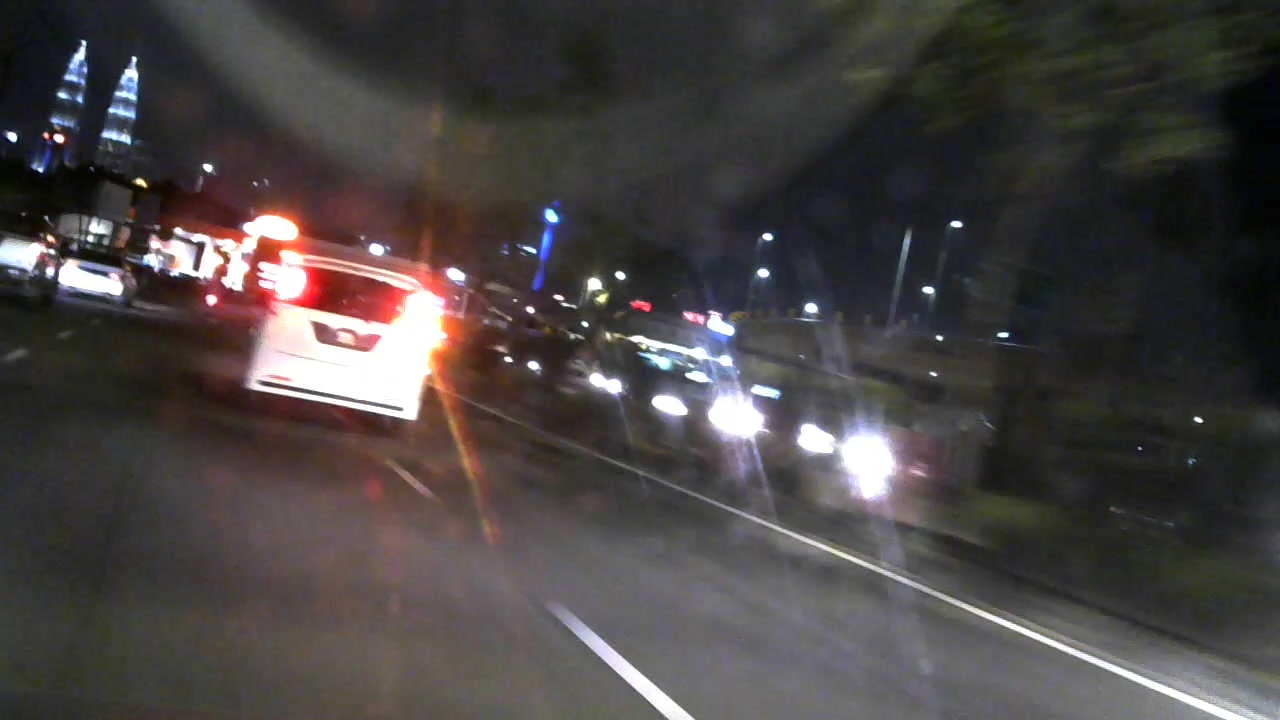Car: (238, 240, 444, 416), (199, 259, 262, 340), (1, 216, 55, 307), (66, 251, 139, 309)
